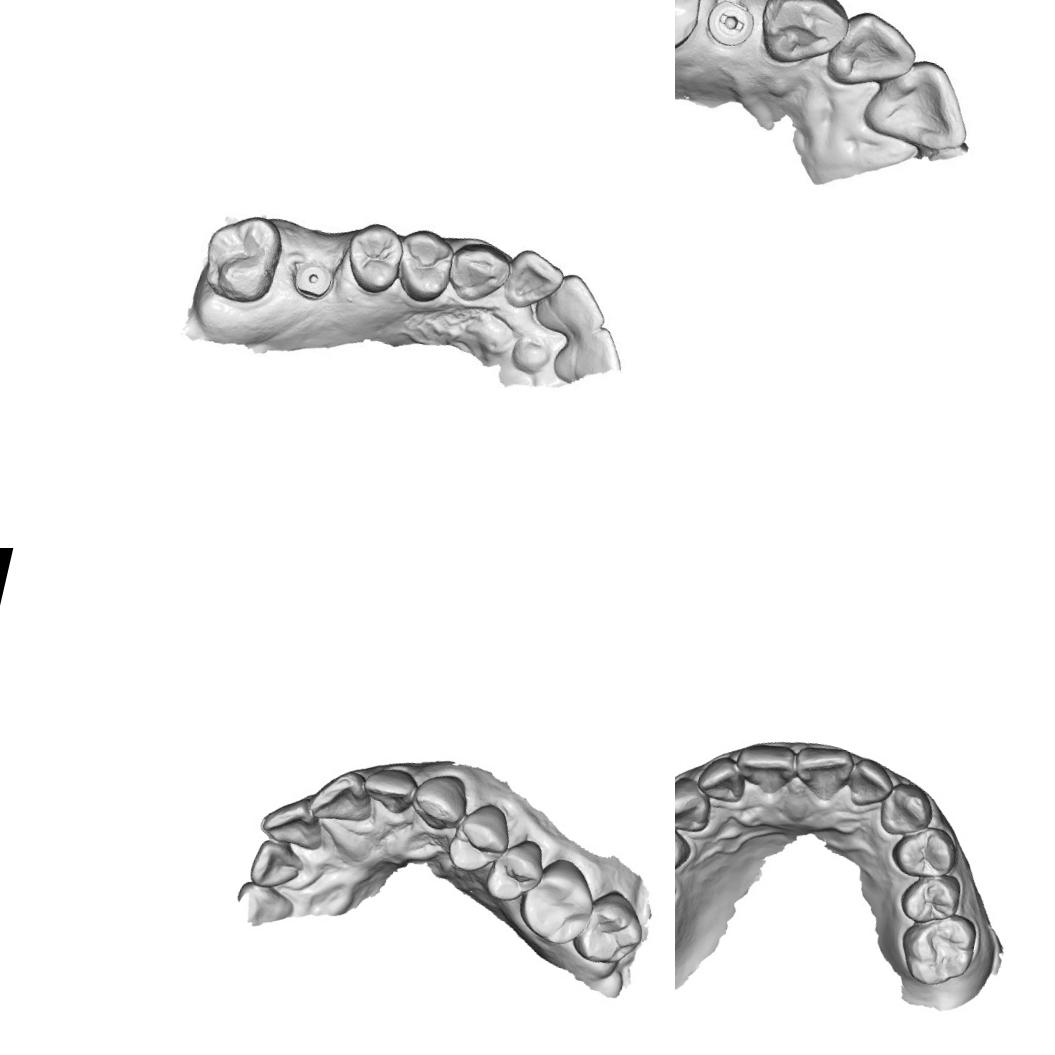canine: (750, 0, 855, 77), (442, 234, 516, 310), (406, 766, 473, 836), (874, 776, 939, 844), (227, 879, 299, 937), (675, 769, 718, 837)
implant: (288, 256, 338, 306)
implant_minus: (700, 0, 763, 55)
incisor: (860, 44, 980, 166), (826, 5, 922, 94), (529, 266, 617, 346), (548, 314, 630, 395), (307, 763, 381, 839), (500, 244, 572, 316), (786, 736, 857, 806), (256, 789, 329, 852), (730, 735, 800, 800), (358, 760, 422, 820), (245, 834, 306, 896), (842, 754, 899, 814), (692, 751, 752, 807)
molar: (196, 204, 289, 310), (511, 850, 606, 952), (892, 903, 983, 995), (570, 882, 652, 973)
premolar: (442, 794, 516, 882), (386, 225, 460, 310), (337, 217, 408, 299), (886, 817, 964, 886), (483, 832, 550, 910), (894, 864, 966, 931), (675, 0, 711, 63), (675, 808, 696, 877)
